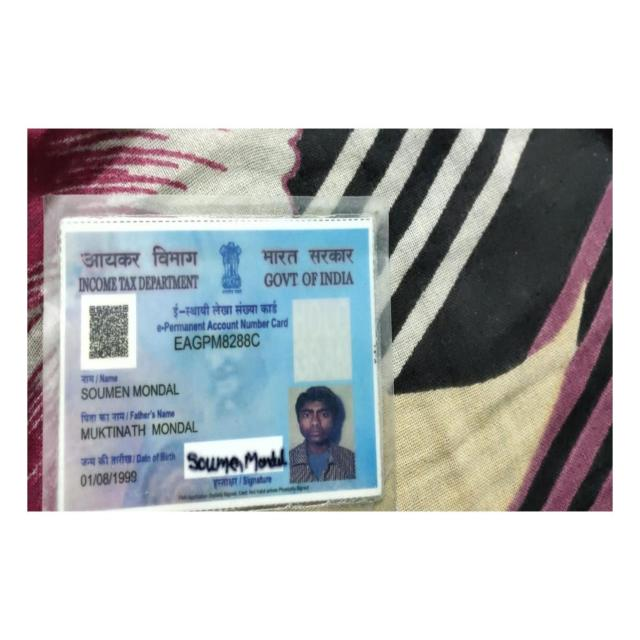pan_card: (63, 233, 380, 512)
